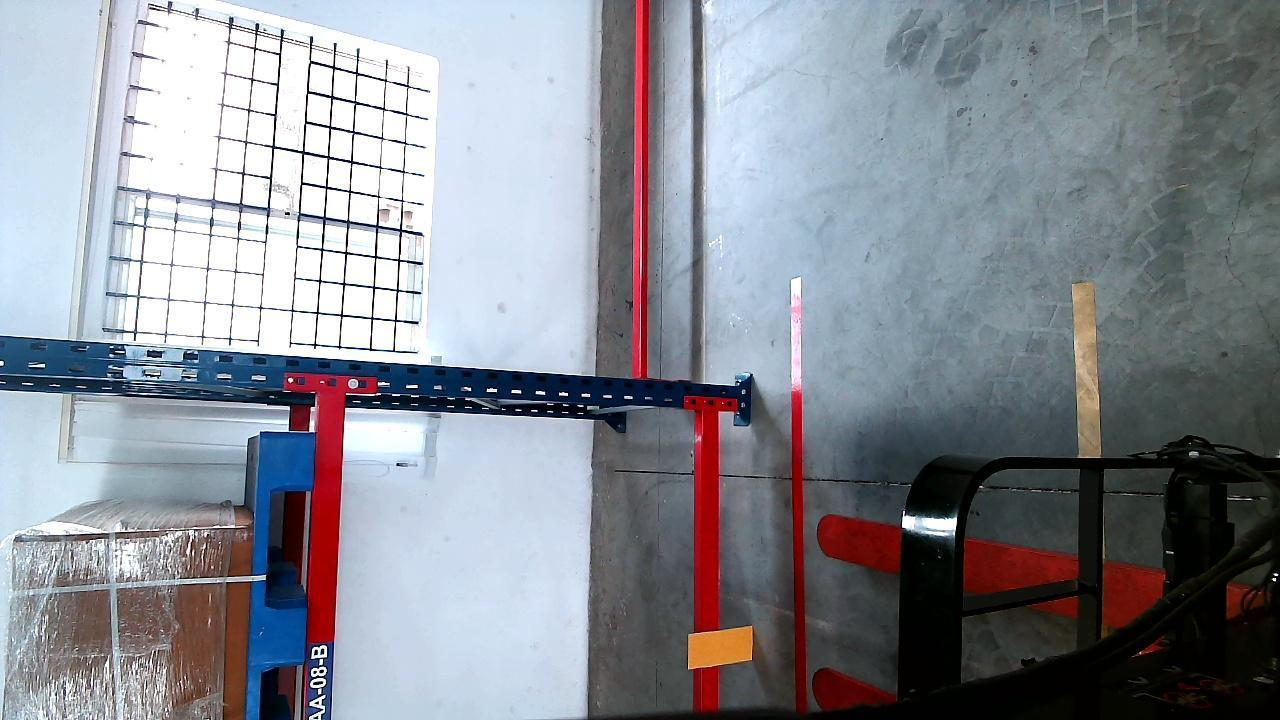h_rack: (306, 400, 348, 720), (694, 404, 724, 711)
orange_strip: (689, 625, 756, 668)
red_line: (626, 0, 657, 377), (784, 307, 811, 703)
small_pallet: (250, 428, 312, 720)
yellow_line: (1075, 276, 1101, 459)
